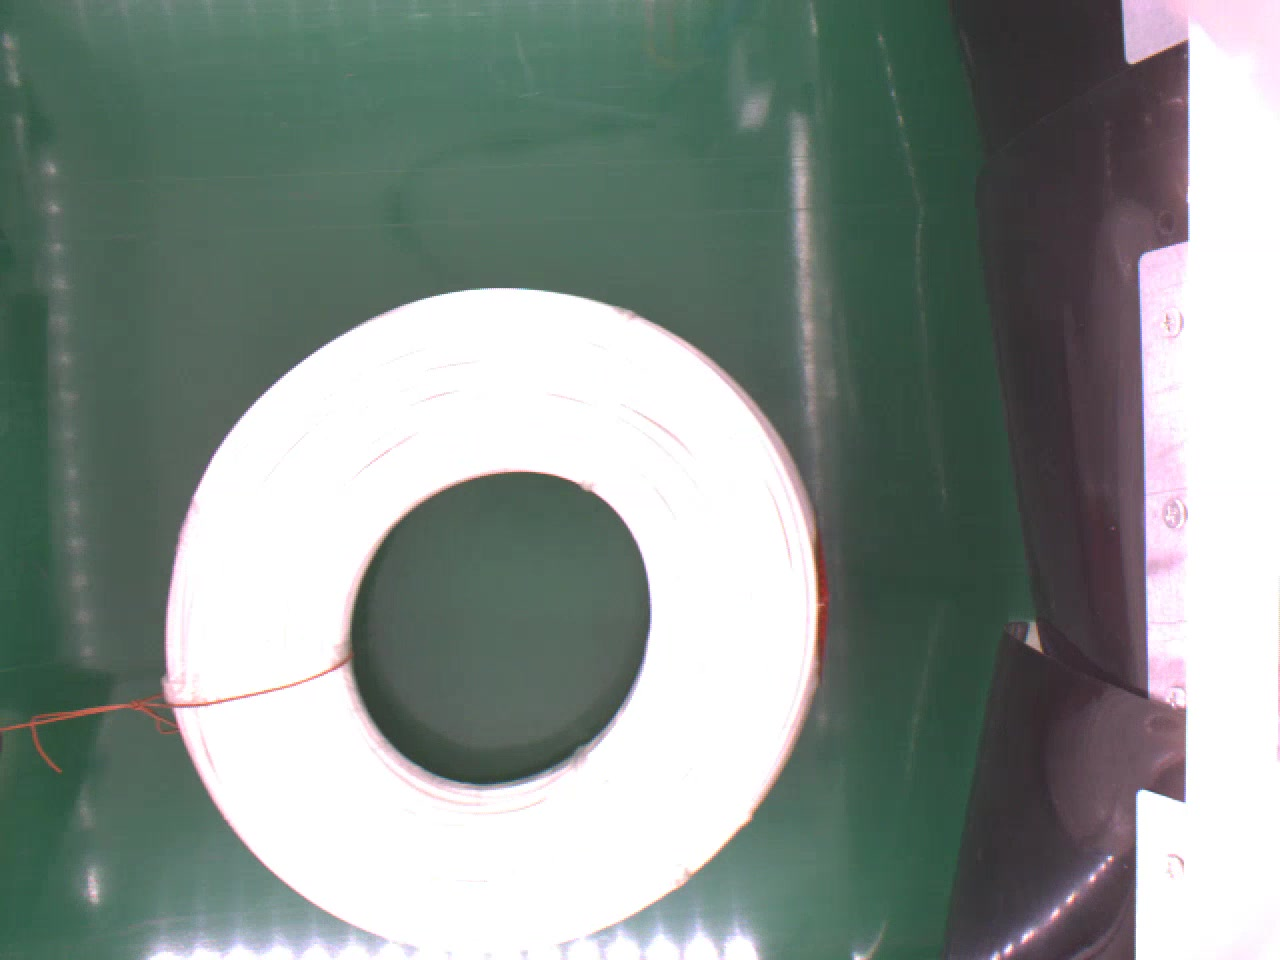white: (160, 285, 833, 948)
